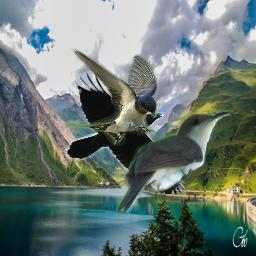Crow: (66, 70, 186, 194)
Cuckoo: (115, 110, 233, 215)
Swallow: (65, 48, 157, 146)
